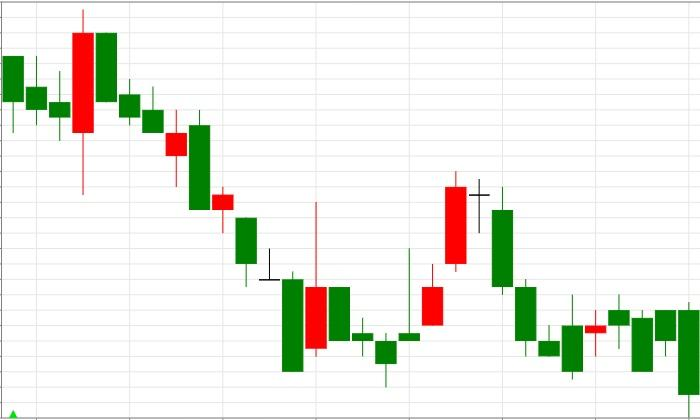evening_star_fall: (375, 171, 513, 388)
